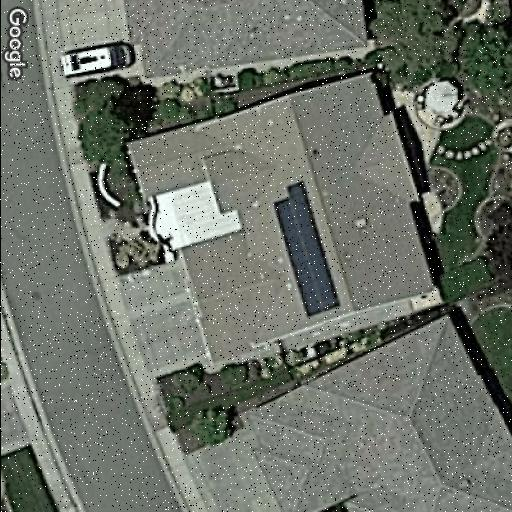solar-panel: (274, 180, 340, 318)
